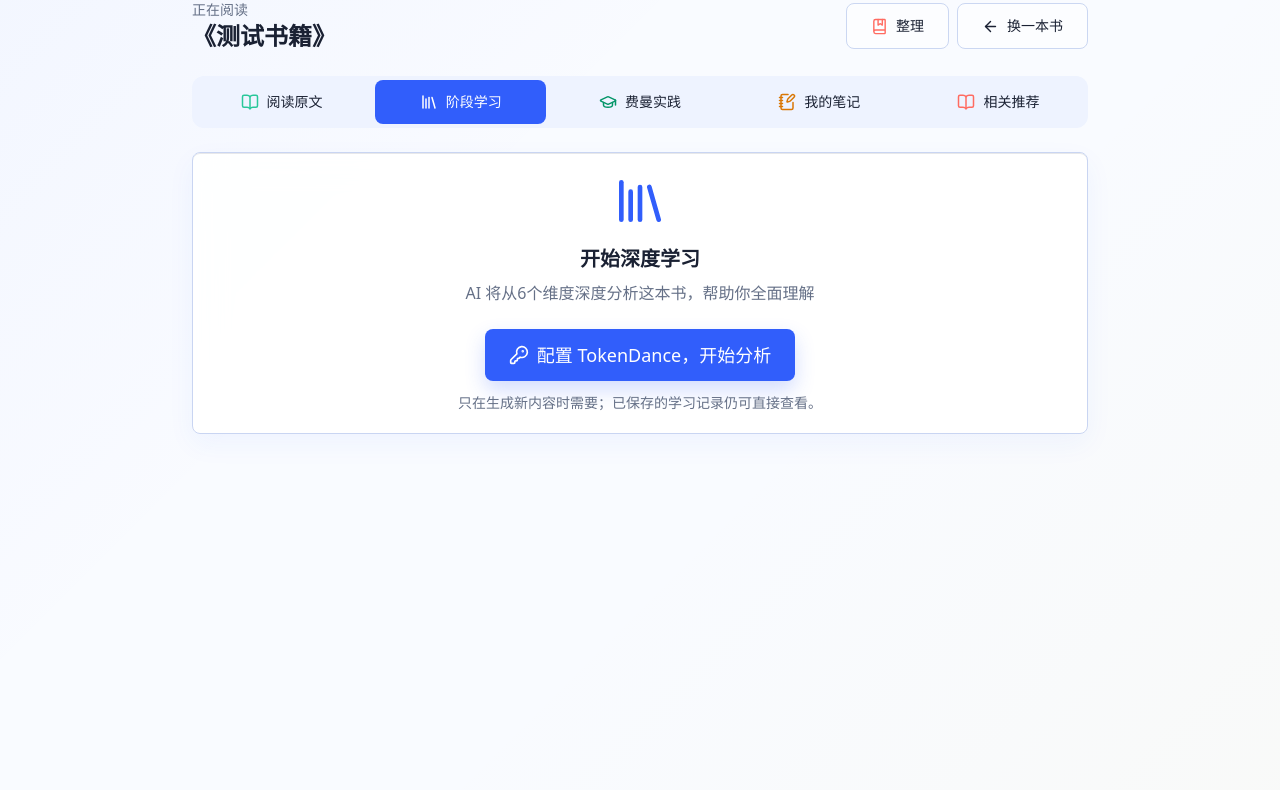
Test: ReadingView notes workspace › shows highlight tags and filters the note list by tag
Click the button with test id "reading-tab-notes": (819, 102) 734,80 -> 905,124
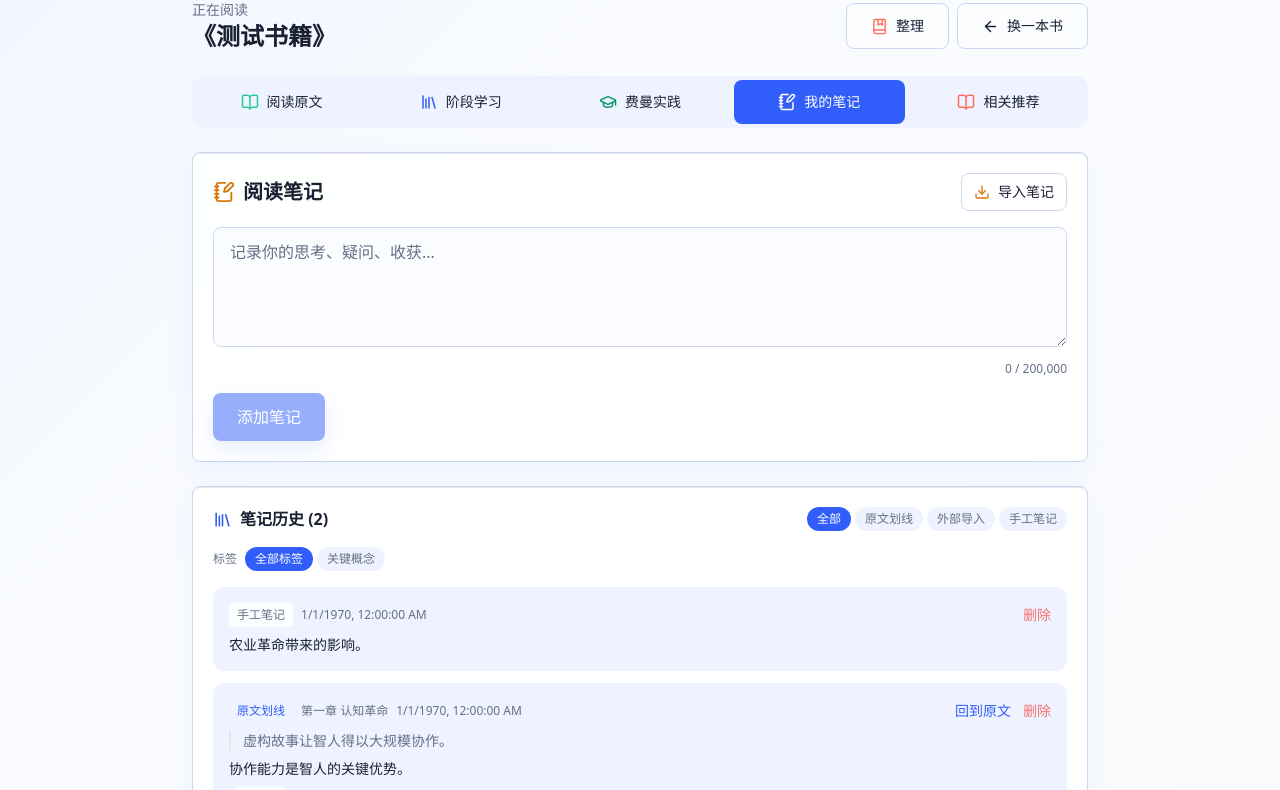
Expected: the text "协作能力是智人的关键优势。" is shown, 229,759 -> 411,778
Expected: the text "农业革命带来的影响。" is shown, 229,635 -> 369,654
Click the button "关键概念": (351, 559) 317,547 -> 385,571
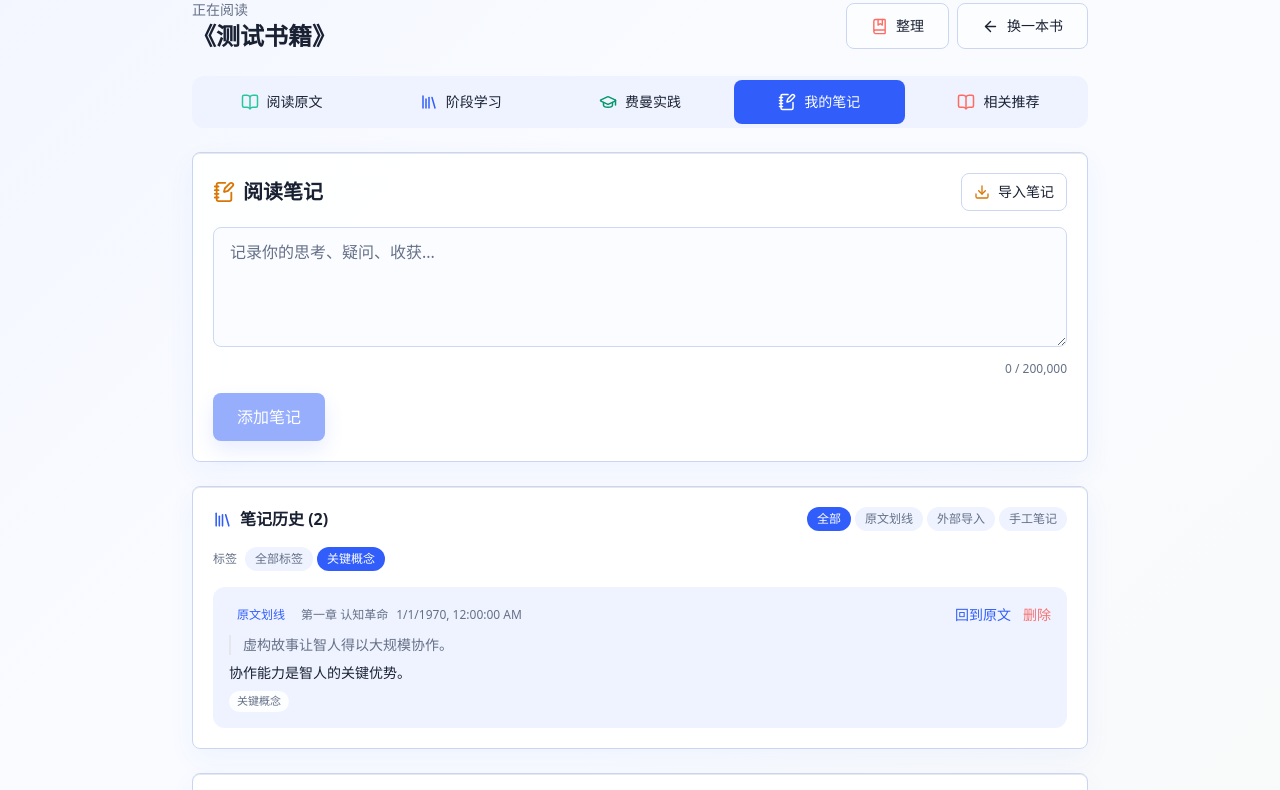
Expected: the text "协作能力是智人的关键优势。" is shown, 229,663 -> 411,682
Expected: the text "农业革命带来的影响。" is gone
